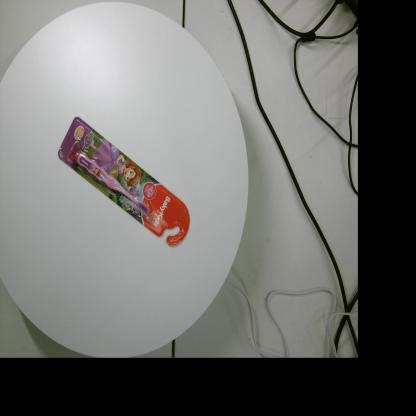Personal Hygiene: (58, 116, 190, 246)
